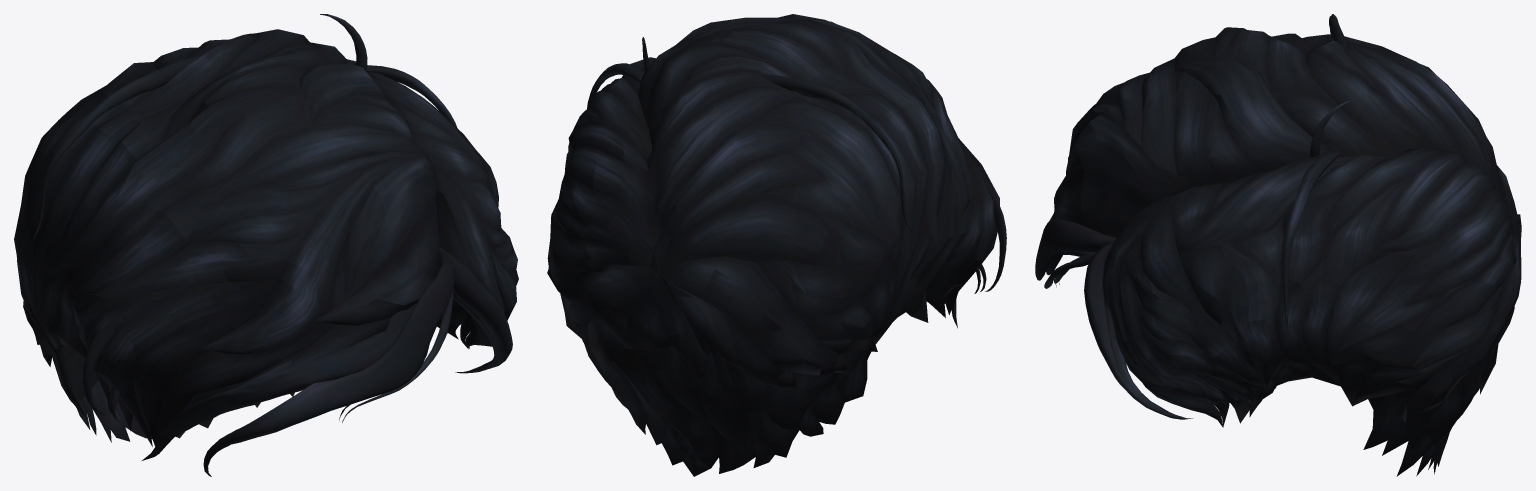
File: hair10.glb
3 renders of one model, left to right at view 1: azimuth 30°, elevation 25°; view 2: azimuth 150°, elevation 25°; view 3: azimuth 270°, elevation 25°, orthographic. The views are drawn at different scales.
Visible parts, largest first — view 1: s4studio_mesh_2, s4studio_mesh_1, s4studio_mesh_3; view 2: s4studio_mesh_2, s4studio_mesh_1, s4studio_mesh_3; view 3: s4studio_mesh_2, s4studio_mesh_1.
Boxes of the visible parts, left/top/right/bottom form: s4studio_mesh_2: left=14, top=14, right=518, bottom=475; s4studio_mesh_1: left=49, top=292, right=496, bottom=476; s4studio_mesh_3: left=24, top=308, right=450, bottom=445; s4studio_mesh_2: left=547, top=14, right=1006, bottom=395; s4studio_mesh_1: left=592, top=263, right=986, bottom=476; s4studio_mesh_3: left=567, top=266, right=980, bottom=389; s4studio_mesh_2: left=1035, top=14, right=1521, bottom=433; s4studio_mesh_1: left=1046, top=251, right=1487, bottom=476.
Size of the model in its own units: 0.2224 by 0.2092 by 0.2189.
Materials: 1 (1 with a texture image).
